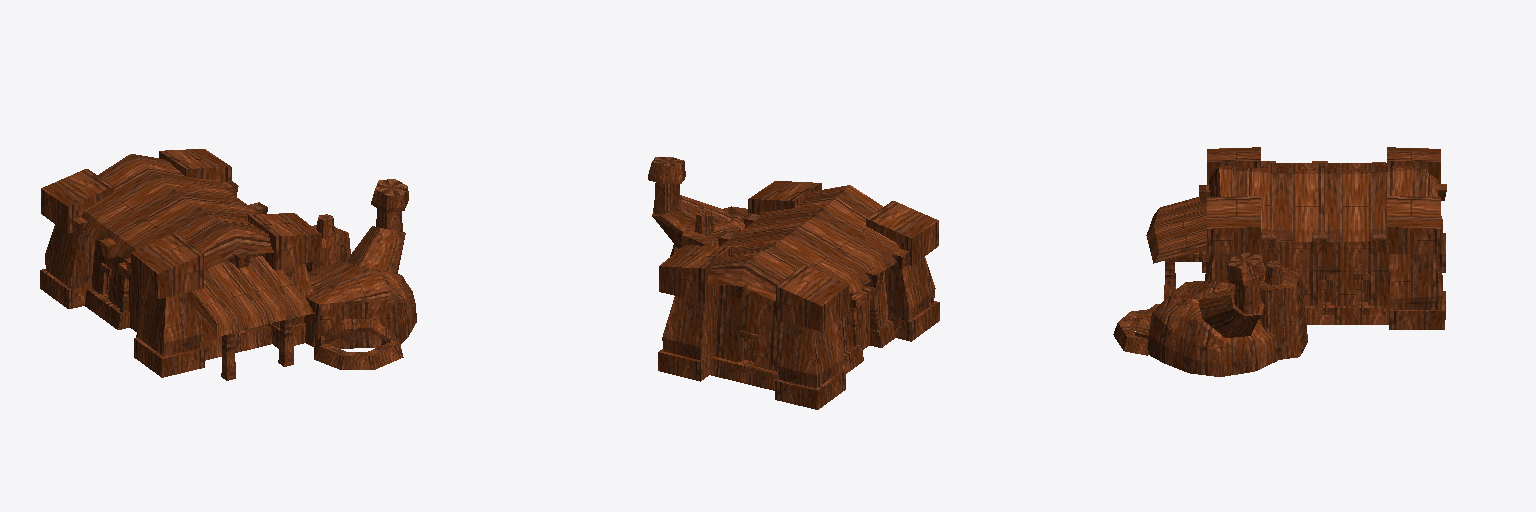
The picture shows the model from 3 angles: view 1: azimuth 30°, elevation 25°; view 2: azimuth 150°, elevation 25°; view 3: azimuth 270°, elevation 25°; orthographic projection.
Parts seen in each view (by area): view 1: world/azeroth/elwynn/buildings/blacksmith/blacksmith.m2_Geoset_0; view 2: world/azeroth/elwynn/buildings/blacksmith/blacksmith.m2_Geoset_0; view 3: world/azeroth/elwynn/buildings/blacksmith/blacksmith.m2_Geoset_0.
Part boxes in pixels (bbox=[...]): world/azeroth/elwynn/buildings/blacksmith/blacksmith.m2_Geoset_0: bbox=[40, 149, 416, 380]; world/azeroth/elwynn/buildings/blacksmith/blacksmith.m2_Geoset_0: bbox=[648, 157, 939, 409]; world/azeroth/elwynn/buildings/blacksmith/blacksmith.m2_Geoset_0: bbox=[1113, 147, 1446, 376].
Size of the model in its own units: 18.17 by 7.95 by 19.51.
1 materials, 1 textured.